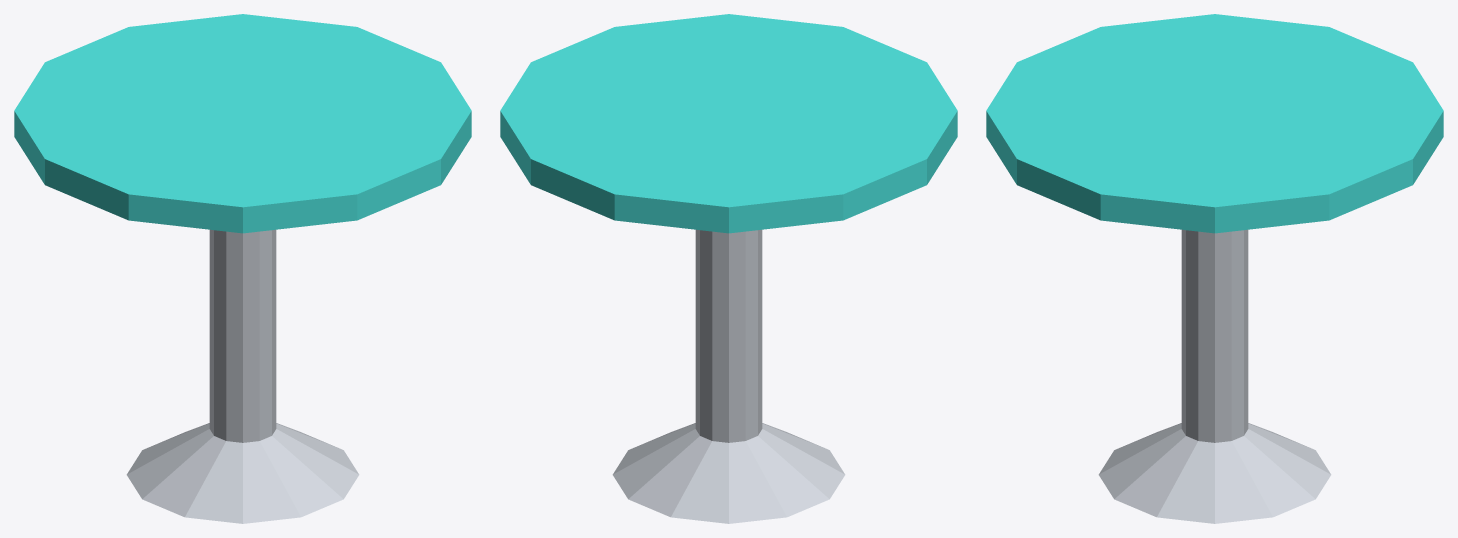
Rendered from Table_1.fbx.
3 renders of one model, left to right at view 1: azimuth 30°, elevation 25°; view 2: azimuth 150°, elevation 25°; view 3: azimuth 270°, elevation 25°, orthographic.
Visible parts, largest first — view 1: Table_1; view 2: Table_1; view 3: Table_1.
Part boxes in pixels (x1=…): Table_1: x1=14, y1=14, x2=471, y2=523; Table_1: x1=500, y1=14, x2=957, y2=523; Table_1: x1=986, y1=14, x2=1443, y2=523.
Size of the model in its own units: 120 by 105 by 120.
